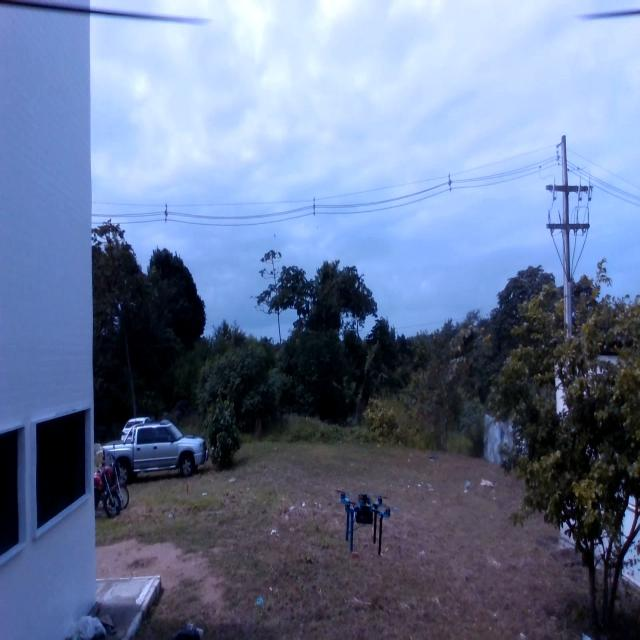-uav-: (334, 472, 399, 572)
